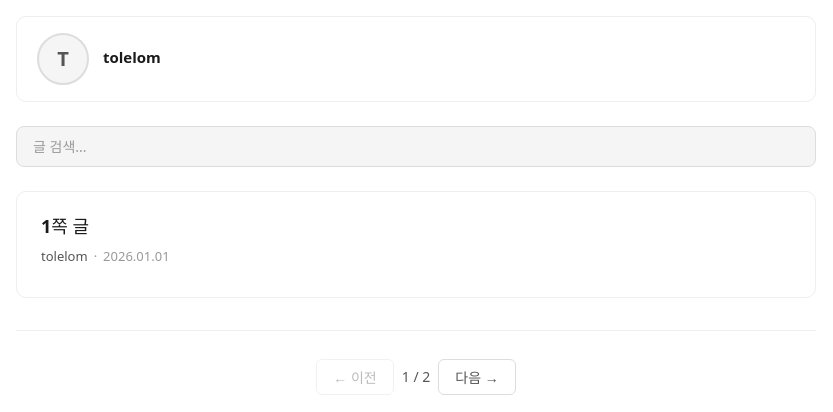
HomePage › 다음 페이지로 넘어가고 마지막 페이지에서는 다음 버튼을 막는다
Expected: the text "1 / 2" is shown, [402, 366, 430, 387]
Expected: the button "← 이전" is disabled, [316, 359, 394, 395]
Click the button "다음 →" at (477, 377), box [438, 359, 516, 395]
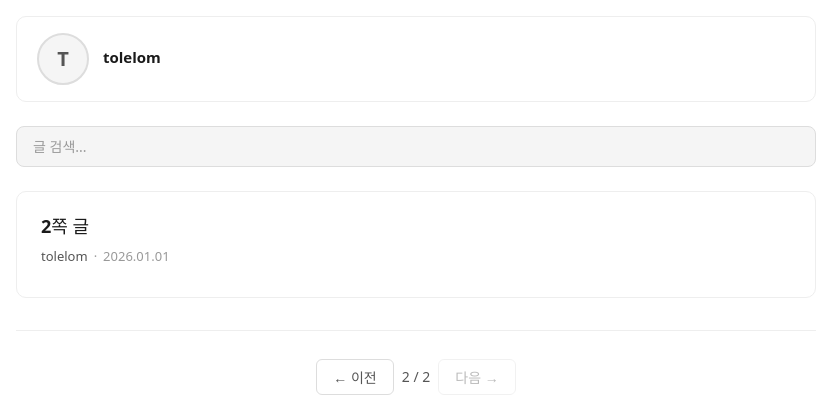
Now the heading "2쪽 글" is shown, box [41, 214, 89, 238]
Now the text "2 / 2" is shown, box [402, 366, 430, 387]
Now the button "다음 →" is disabled, box [438, 359, 516, 395]
